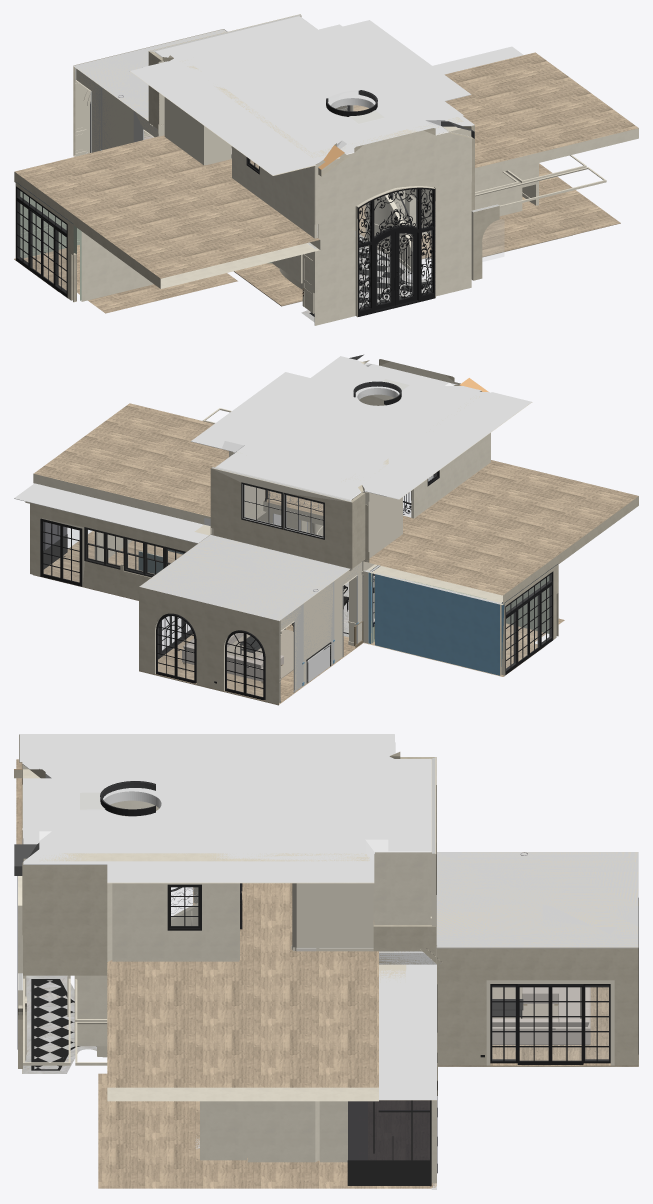
Rendered from family-room-ce6e8537b801.glb.
3 views of the same model, one above another, from view 1: azimuth 30°, elevation 25°; view 2: azimuth 150°, elevation 25°; view 3: azimuth 270°, elevation 25° (orthographic). The views are drawn at different scales.
Parts seen in each view (by area): view 1: family-room-look-2575515a05775d9e, family-room-look-e8793759323e04f0, family-room-look-9d91b47435c6fb33, family-room-look-34525a54e63b733b, family-room-look-3b0077416469e01b, family-room-look-d5a4a1b5d3594c04, family-room-look-5f56640b372ec5ce, family-room-look-746250f96522f643, family-room-4a969f5cc1ae3dfe, family-room-look-bce662e26d5a5947, family-room-look-d999b7e09afcf2f4, family-room-9d80b152e3f2ea10 (+30 smaller); view 2: family-room-look-2575515a05775d9e, family-room-look-e8793759323e04f0, family-room-look-9d91b47435c6fb33, family-room-4a969f5cc1ae3dfe, family-room-look-b19b106fc304963c, family-room-look-245f595ae2832e16, family-room-969b861f9850351e, family-room-look-bfb9fa537cd11d1d, family-room-look-9a0e9ee9b2a451d7, family-room-9d80b152e3f2ea10, family-room-look-5f56640b372ec5ce, family-room-50d54560d247b537 (+27 smaller); view 3: family-room-look-2575515a05775d9e, family-room-look-e8793759323e04f0, family-room-look-9d91b47435c6fb33, family-room-4a969f5cc1ae3dfe, family-room-look-3b0077416469e01b, family-room-e706aa16b4547c37, family-room-look-62353aa10fc57f23, family-room-50d54560d247b537, family-room-look-c51ecd664a3b22a3, family-room-look-9a0e9ee9b2a451d7, family-room-look-5f56640b372ec5ce, family-room-look-69af8f587252f9fa (+28 smaller).
Part boxes in pixels (x1,y1,x2,y2): family-room-look-2575515a05775d9e: (14, 52, 638, 288); family-room-look-e8793759323e04f0: (180, 23, 463, 157); family-room-look-9d91b47435c6fb33: (130, 16, 474, 175); family-room-look-34525a54e63b733b: (314, 126, 471, 244); family-room-look-3b0077416469e01b: (14, 163, 620, 306); family-room-look-d5a4a1b5d3594c04: (314, 208, 471, 325); family-room-look-5f56640b372ec5ce: (254, 81, 404, 139); family-room-look-746250f96522f643: (232, 146, 317, 238); family-room-4a969f5cc1ae3dfe: (73, 29, 226, 120); family-room-look-bce662e26d5a5947: (357, 187, 435, 316); family-room-look-d999b7e09afcf2f4: (80, 230, 153, 301); family-room-9d80b152e3f2ea10: (76, 69, 158, 152); family-room-look-2575515a05775d9e: (33, 403, 638, 604); family-room-look-e8793759323e04f0: (222, 356, 481, 481); family-room-look-9d91b47435c6fb33: (191, 362, 532, 500); family-room-4a969f5cc1ae3dfe: (139, 534, 349, 621); family-room-look-b19b106fc304963c: (375, 573, 501, 675); family-room-look-245f595ae2832e16: (210, 467, 352, 568); family-room-969b861f9850351e: (139, 587, 280, 704); family-room-look-bfb9fa537cd11d1d: (30, 502, 197, 600); family-room-look-9a0e9ee9b2a451d7: (14, 483, 208, 543); family-room-9d80b152e3f2ea10: (280, 562, 362, 690); family-room-look-5f56640b372ec5ce: (324, 377, 464, 430); family-room-50d54560d247b537: (139, 534, 343, 620); family-room-look-2575515a05775d9e: (16, 759, 378, 1101); family-room-look-e8793759323e04f0: (39, 756, 388, 861); family-room-look-9d91b47435c6fb33: (19, 734, 431, 883); family-room-4a969f5cc1ae3dfe: (436, 852, 638, 948); family-room-look-3b0077416469e01b: (98, 920, 436, 1188); family-room-e706aa16b4547c37: (437, 948, 633, 1065); family-room-look-62353aa10fc57f23: (23, 865, 112, 975); family-room-50d54560d247b537: (436, 852, 638, 948); family-room-look-c51ecd664a3b22a3: (112, 883, 239, 961); family-room-look-9a0e9ee9b2a451d7: (379, 964, 436, 1100); family-room-look-5f56640b372ec5ce: (83, 756, 196, 825); family-room-look-69af8f587252f9fa: (292, 883, 373, 947).
Bounding box in the file's own units: 21.02 × 7.02 × 16.88.
63 materials, 12 textured.
